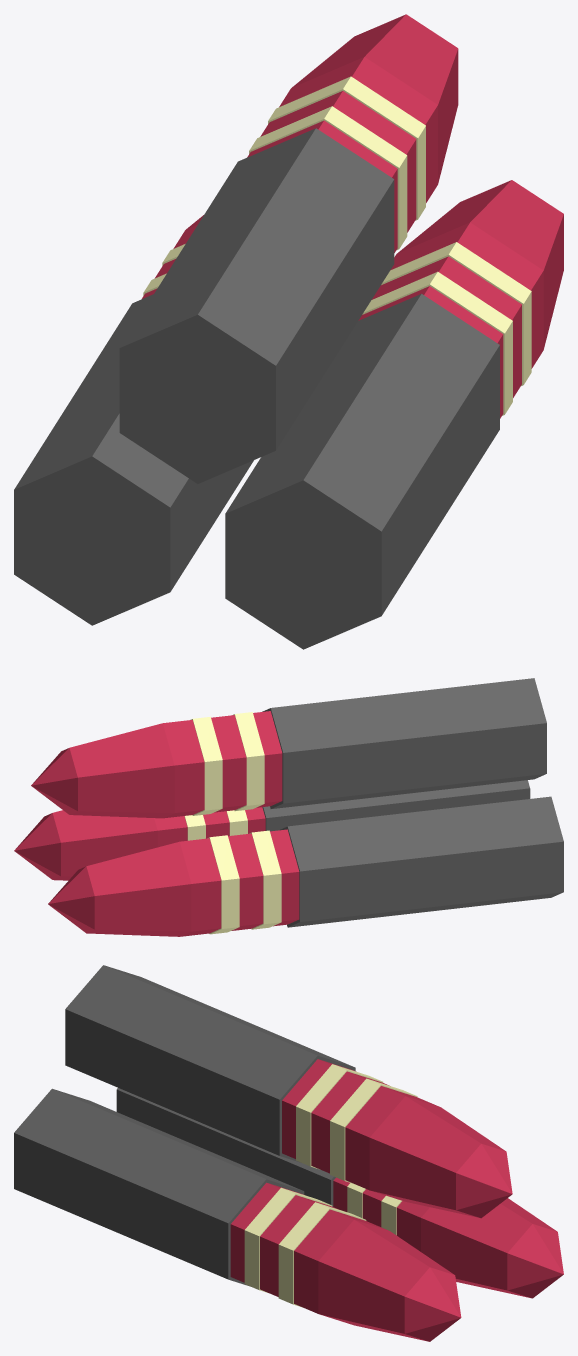
Rendered from ce_ammo2_rcl84_inc_b.obj.
3 renders of one model, top to bottom at view 1: azimuth 30°, elevation 25°; view 2: azimuth 150°, elevation 25°; view 3: azimuth 270°, elevation 25°, orthographic. The views are drawn at different scales.
Visible parts, largest first — view 1: ce_ammo2_rcl84_inc_b_16, ce_ammo2_rcl84_inc_b_8, ce_ammo2_rcl84_inc_b_0, ce_ammo2_rcl84_inc_b_14, ce_ammo2_rcl84_inc_b_22, ce_ammo2_rcl84_inc_b_13, ce_ammo2_rcl84_inc_b_21, ce_ammo2_rcl84_inc_b_19, ce_ammo2_rcl84_inc_b_18, ce_ammo2_rcl84_inc_b_20, ce_ammo2_rcl84_inc_b_11, ce_ammo2_rcl84_inc_b_10 (+3 smaller); view 2: ce_ammo2_rcl84_inc_b_0, ce_ammo2_rcl84_inc_b_16, ce_ammo2_rcl84_inc_b_6, ce_ammo2_rcl84_inc_b_22, ce_ammo2_rcl84_inc_b_8, ce_ammo2_rcl84_inc_b_14, ce_ammo2_rcl84_inc_b_5, ce_ammo2_rcl84_inc_b_21, ce_ammo2_rcl84_inc_b_19, ce_ammo2_rcl84_inc_b_3, ce_ammo2_rcl84_inc_b_4, ce_ammo2_rcl84_inc_b_2 (+12 smaller); view 3: ce_ammo2_rcl84_inc_b_16, ce_ammo2_rcl84_inc_b_8, ce_ammo2_rcl84_inc_b_22, ce_ammo2_rcl84_inc_b_14, ce_ammo2_rcl84_inc_b_6, ce_ammo2_rcl84_inc_b_0, ce_ammo2_rcl84_inc_b_15, ce_ammo2_rcl84_inc_b_7, ce_ammo2_rcl84_inc_b_23, ce_ammo2_rcl84_inc_b_21, ce_ammo2_rcl84_inc_b_13, ce_ammo2_rcl84_inc_b_11 (+11 smaller).
Boxes of the visible parts, x1=… form: ce_ammo2_rcl84_inc_b_16: x1=119, y1=128, x2=394, y2=483; ce_ammo2_rcl84_inc_b_8: x1=225, y1=293, x2=499, y2=649; ce_ammo2_rcl84_inc_b_0: x1=14, y1=294, x2=253, y2=625; ce_ammo2_rcl84_inc_b_14: x1=397, y1=180, x2=563, y2=349; ce_ammo2_rcl84_inc_b_22: x1=292, y1=14, x2=458, y2=183; ce_ammo2_rcl84_inc_b_13: x1=390, y1=222, x2=543, y2=368; ce_ammo2_rcl84_inc_b_21: x1=279, y1=57, x2=437, y2=202; ce_ammo2_rcl84_inc_b_19: x1=260, y1=91, x2=416, y2=232; ce_ammo2_rcl84_inc_b_18: x1=249, y1=106, x2=407, y2=249; ce_ammo2_rcl84_inc_b_20: x1=268, y1=76, x2=425, y2=220; ce_ammo2_rcl84_inc_b_11: x1=372, y1=256, x2=521, y2=397; ce_ammo2_rcl84_inc_b_10: x1=362, y1=271, x2=512, y2=415; ce_ammo2_rcl84_inc_b_0: x1=279, y1=796, x2=563, y2=927; ce_ammo2_rcl84_inc_b_16: x1=262, y1=678, x2=546, y2=808; ce_ammo2_rcl84_inc_b_6: x1=86, y1=841, x2=191, y2=936; ce_ammo2_rcl84_inc_b_22: x1=69, y1=723, x2=174, y2=818; ce_ammo2_rcl84_inc_b_8: x1=262, y1=780, x2=530, y2=831; ce_ammo2_rcl84_inc_b_14: x1=52, y1=810, x2=157, y2=880; ce_ammo2_rcl84_inc_b_5: x1=180, y1=838, x2=221, y2=936; ce_ammo2_rcl84_inc_b_21: x1=163, y1=720, x2=204, y2=818; ce_ammo2_rcl84_inc_b_19: x1=211, y1=715, x2=246, y2=812; ce_ammo2_rcl84_inc_b_3: x1=228, y1=833, x2=263, y2=930; ce_ammo2_rcl84_inc_b_4: x1=207, y1=835, x2=239, y2=934; ce_ammo2_rcl84_inc_b_2: x1=249, y1=830, x2=281, y2=929; ce_ammo2_rcl84_inc_b_16: x1=65, y1=965, x2=355, y2=1162; ce_ammo2_rcl84_inc_b_8: x1=14, y1=1088, x2=304, y2=1286; ce_ammo2_rcl84_inc_b_22: x1=369, y1=1096, x2=505, y2=1217; ce_ammo2_rcl84_inc_b_14: x1=318, y1=1219, x2=454, y2=1341; ce_ammo2_rcl84_inc_b_6: x1=421, y1=1198, x2=556, y2=1297; ce_ammo2_rcl84_inc_b_0: x1=116, y1=1088, x2=335, y2=1206; ce_ammo2_rcl84_inc_b_15: x1=404, y1=1267, x2=461, y2=1341; ce_ammo2_rcl84_inc_b_7: x1=507, y1=1224, x2=563, y2=1298; ce_ammo2_rcl84_inc_b_23: x1=456, y1=1143, x2=512, y2=1218; ce_ammo2_rcl84_inc_b_21: x1=345, y1=1086, x2=439, y2=1190; ce_ammo2_rcl84_inc_b_13: x1=294, y1=1209, x2=387, y2=1313; ce_ammo2_rcl84_inc_b_11: x1=260, y1=1195, x2=338, y2=1296.
Size of the model in its own units: 0.758 by 0.326 by 0.758.
